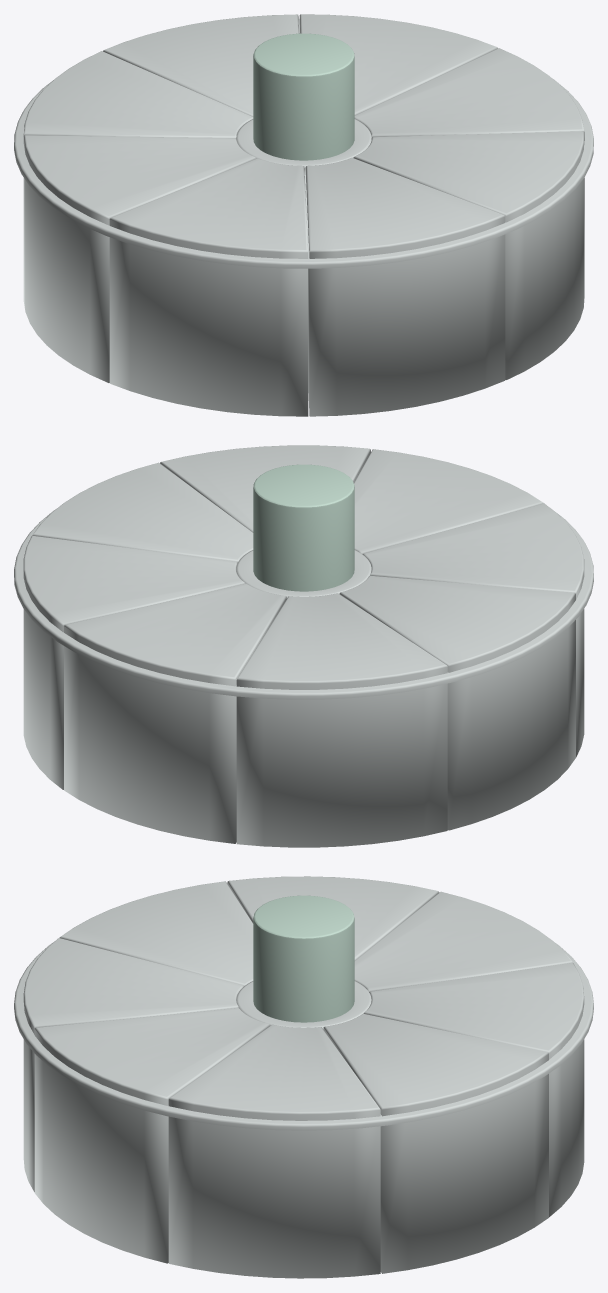
The model's file is portfolio.glb.
3 views of the same model, one above another, from view 1: azimuth 30°, elevation 25°; view 2: azimuth 150°, elevation 25°; view 3: azimuth 270°, elevation 25° (orthographic).
Visible parts, largest first — view 1: slice-7, slice-8, slice-6, slice-1, slice-2, slice-5, pedastol, plafform, slice-4, slice-3; view 2: slice-5, slice-4, slice-6, slice-3, slice-7, slice-2, pedastol, slice-8, plafform, slice-1; view 3: slice-2, slice-3, slice-1, slice-4, slice-8, slice-5, pedastol, slice-7, plafform, slice-6.
Boxes of the visible parts, x1,y1,x2,y2 form: slice-7: (109, 158, 308, 416); slice-8: (305, 157, 505, 416); slice-6: (23, 135, 256, 382); slice-1: (353, 131, 584, 379); slice-2: (354, 48, 584, 137); slice-5: (23, 51, 253, 137); pedastol: (253, 33, 354, 160); plafform: (14, 18, 593, 268); slice-4: (103, 14, 299, 116); slice-3: (299, 14, 497, 115); slice-5: (236, 593, 447, 847); slice-4: (64, 583, 286, 843); slice-6: (339, 575, 575, 830); slice-3: (23, 535, 245, 789); slice-7: (362, 503, 584, 757); slice-2: (32, 462, 253, 561); pedastol: (253, 464, 354, 591); slice-8: (353, 449, 543, 554); plafform: (14, 509, 593, 699); slice-1: (160, 445, 370, 532); slice-2: (168, 1024, 380, 1278); slice-3: (323, 1013, 548, 1273); slice-1: (34, 1007, 270, 1263); slice-4: (363, 962, 584, 1217); slice-8: (23, 938, 243, 1191); slice-5: (354, 891, 572, 991); pedastol: (253, 895, 354, 1022); slice-7: (59, 881, 253, 985); plafform: (14, 941, 593, 1130); slice-6: (227, 876, 439, 960).
Size of what is drawn, in the model's own units: 6.8 by 3.21 by 6.8.
